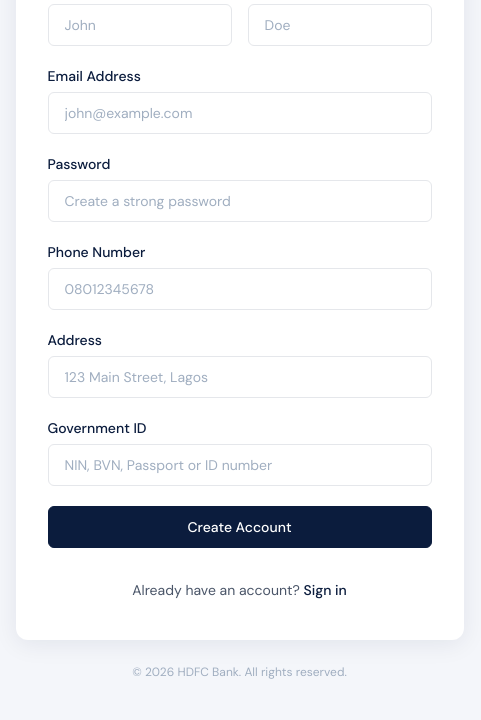
Test case: RegisterPage › should show validation error when form is submitted empty
(page scrolled)
Click the button "Create Account". click: (240, 527)
box: x1=48 y1=506 x2=432 y2=548
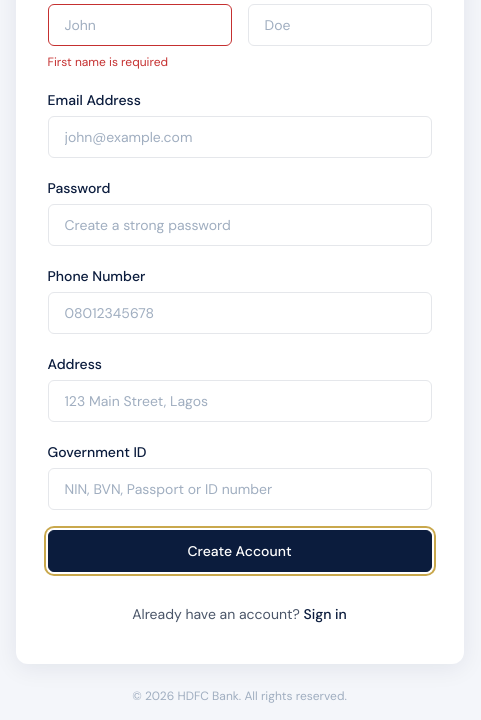
Expected: the text "First name is required" is shown, x1=48 y1=54 x2=168 y2=70
